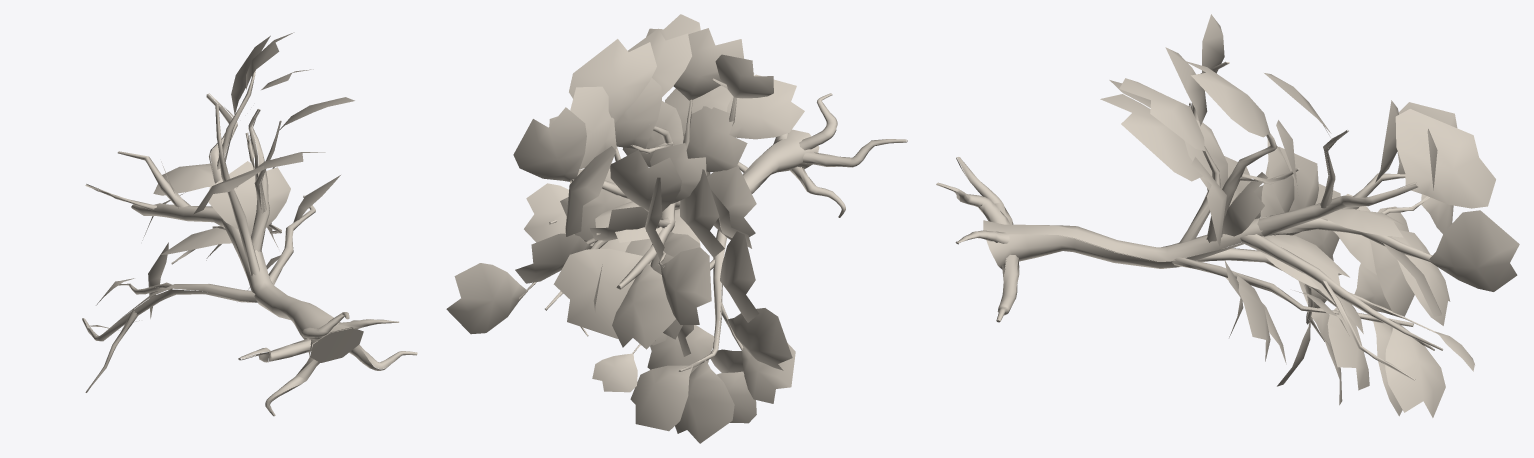
File: tree_2_cand03.glb
3 views of the same model, side by side, from view 1: azimuth 30°, elevation 25°; view 2: azimuth 150°, elevation 25°; view 3: azimuth 270°, elevation 25° (orthographic). The views are drawn at different scales.
Visible parts, largest first — view 1: world; view 2: world; view 3: world.
Boxes of the visible parts, <box> form: world: <box>82,32,417,416</box>; world: <box>446,14,907,443</box>; world: <box>936,14,1519,417</box>.
Bounding box in the file's own units: 1.3 × 1.46 × 1.84.
